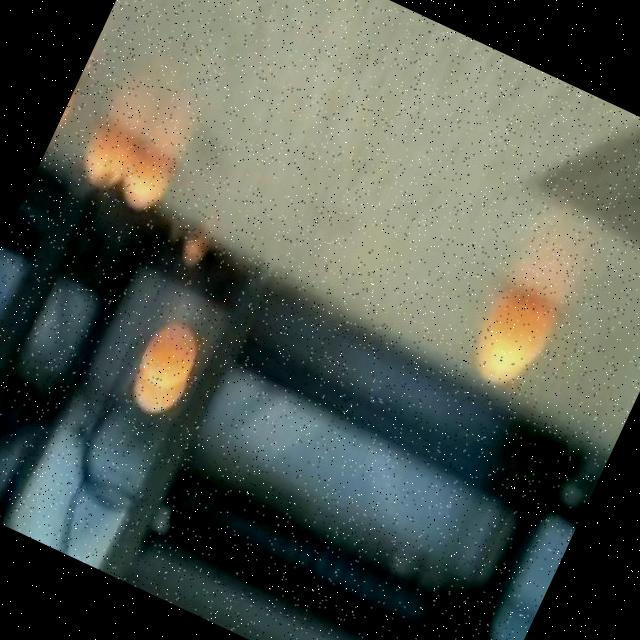ping-pong-ball: (462, 276, 580, 404), (115, 316, 209, 426), (74, 108, 148, 195), (116, 145, 184, 216)
